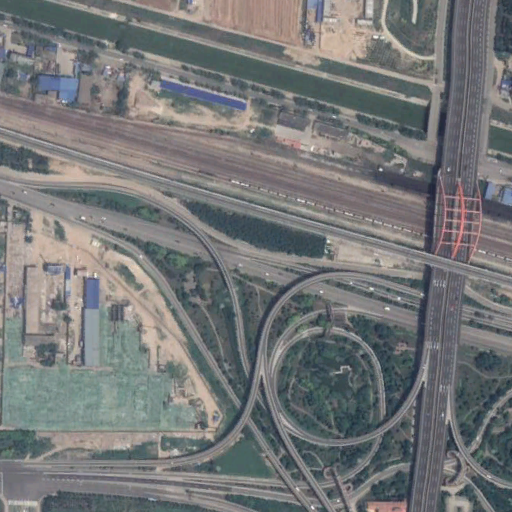cw: (3, 319, 202, 432)
